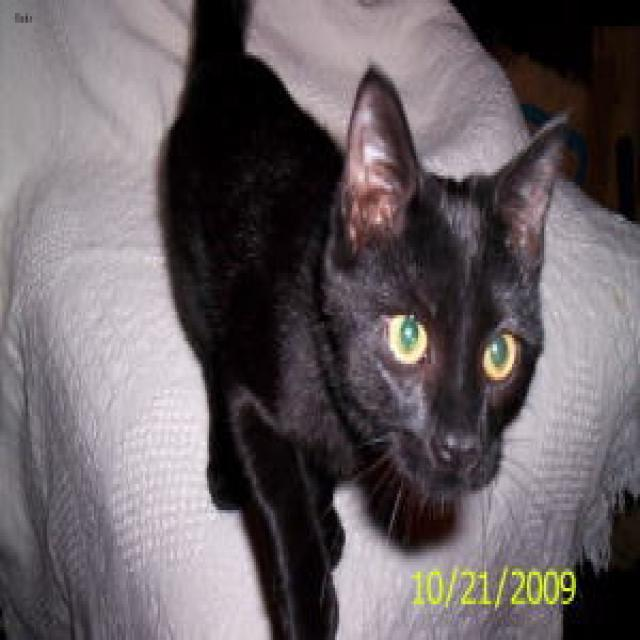Bombay: (317, 62, 570, 515)
